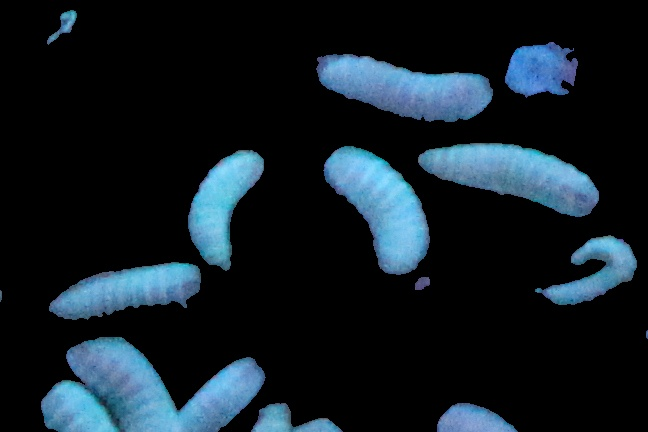larvae: (418, 136, 601, 218), (319, 143, 428, 273), (318, 54, 492, 124), (70, 337, 180, 432), (188, 148, 267, 271), (50, 265, 202, 322), (538, 235, 636, 307), (178, 355, 265, 432), (34, 380, 118, 432)
